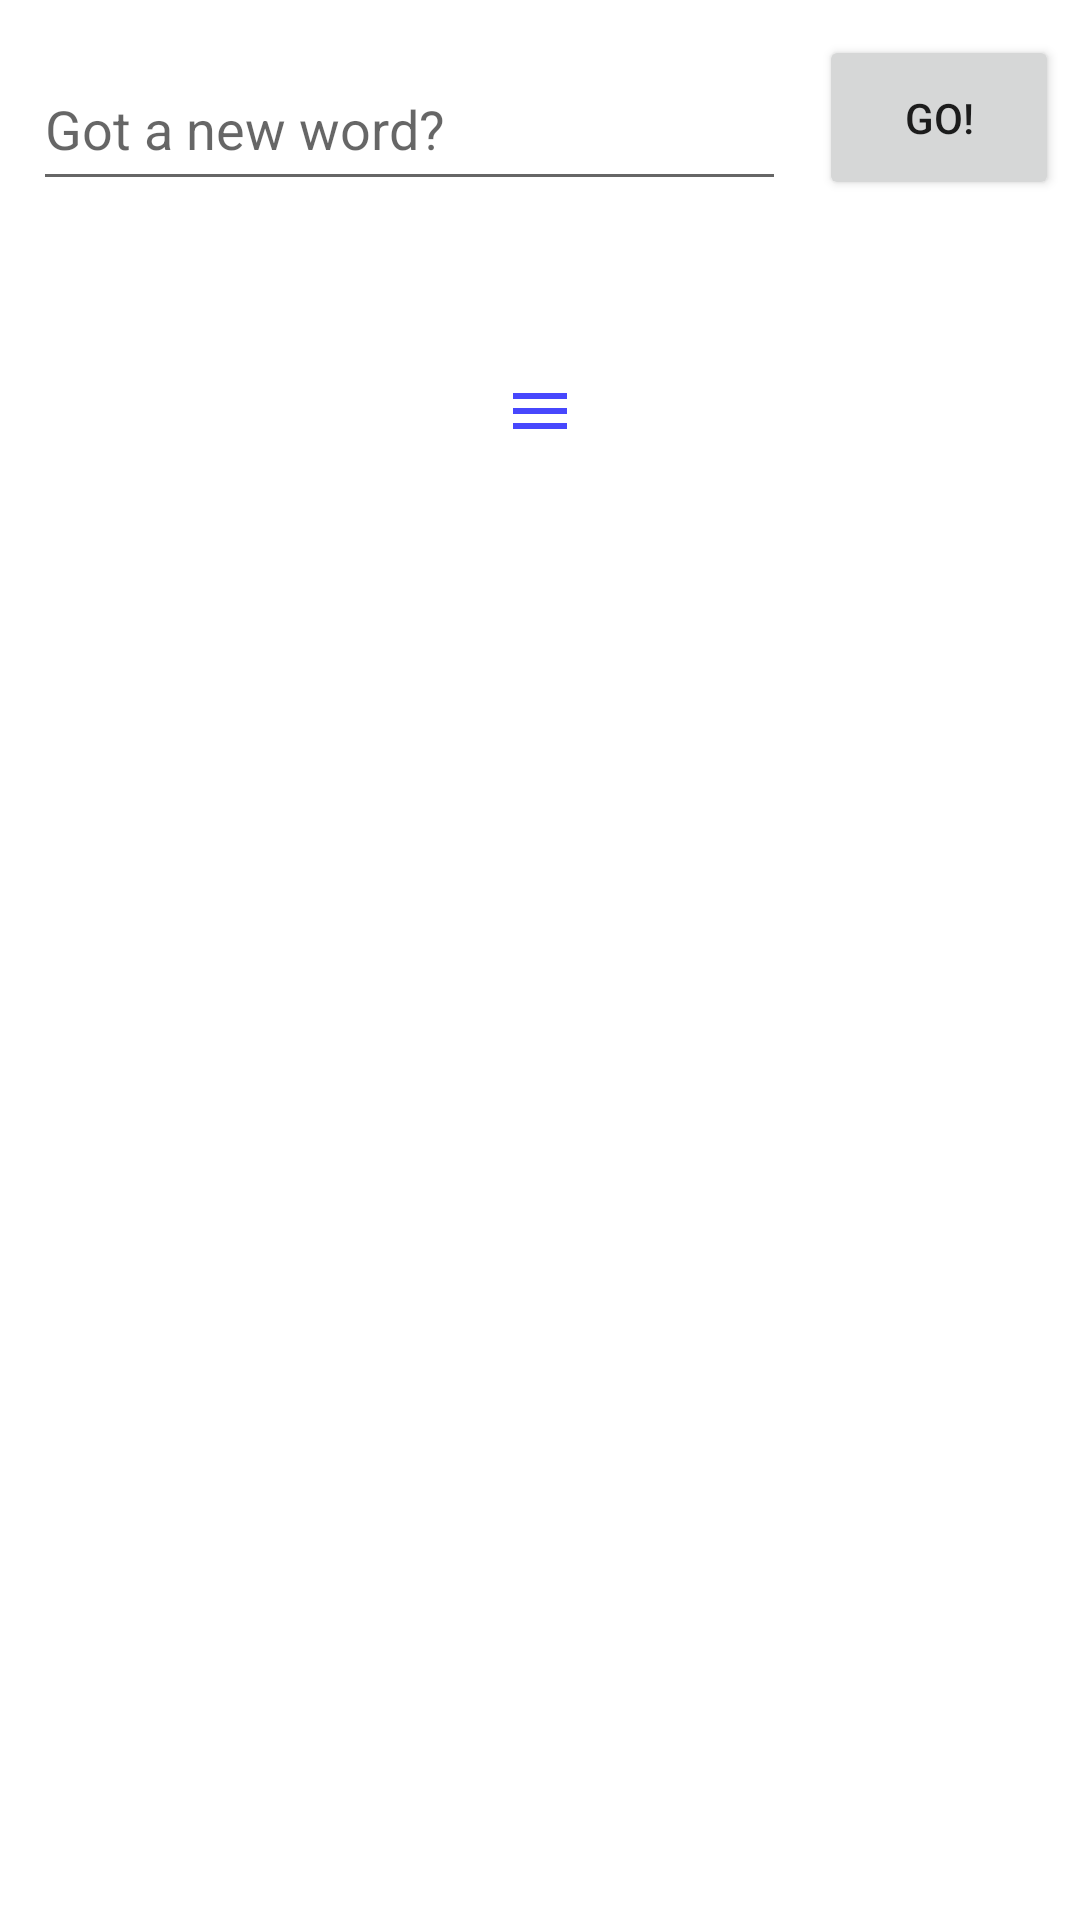

Where icons sit on this 1080px×1920px app screen, as box=[x1, y1, x2, y2]:
menu: box=[513, 393, 567, 429]
